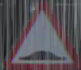Speed Breaker ahead: (17, 2, 69, 66)
